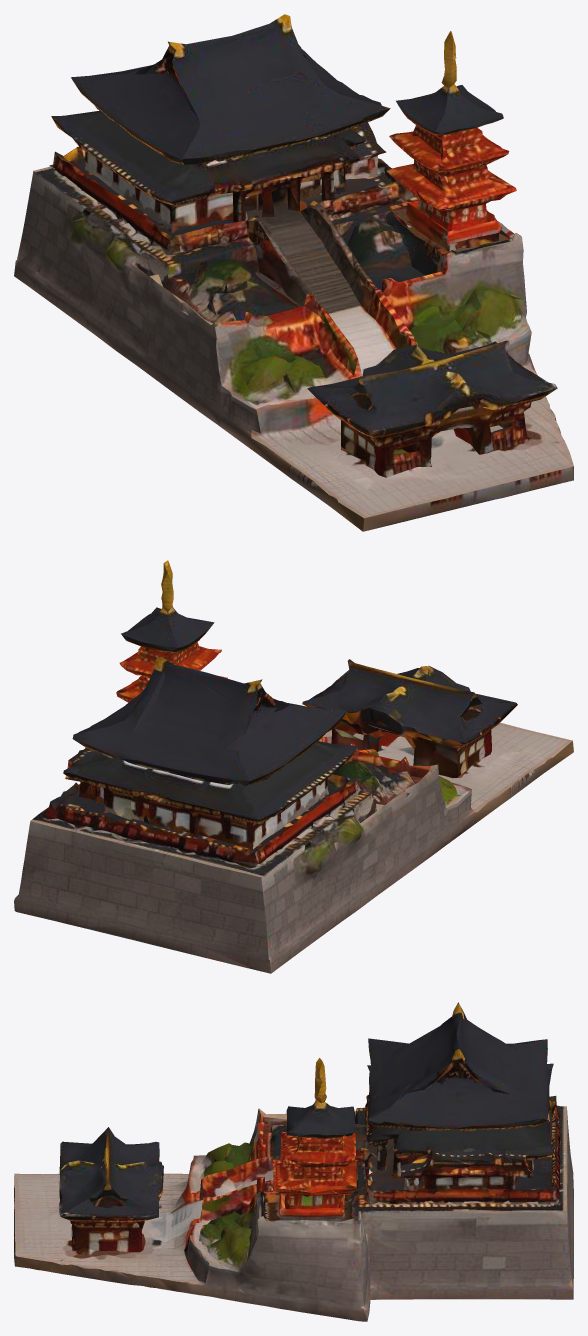
Rendered from naritasan.glb.
The picture shows the model from 3 angles, top to bottom: view 1: azimuth 30°, elevation 25°; view 2: azimuth 150°, elevation 25°; view 3: azimuth 270°, elevation 25°; orthographic projection. The views are drawn at different scales.
Parts seen in each view (by area): view 1: logan-textured.obj; view 2: logan-textured.obj; view 3: logan-textured.obj.
Part boxes in pixels (x1,y1,x2,y2): logan-textured.obj: (14, 14, 573, 531); logan-textured.obj: (14, 560, 573, 973); logan-textured.obj: (14, 1002, 573, 1321).
Size of the model in its own units: 0.5885 by 0.4636 by 1.
1 material, 1 textured.
